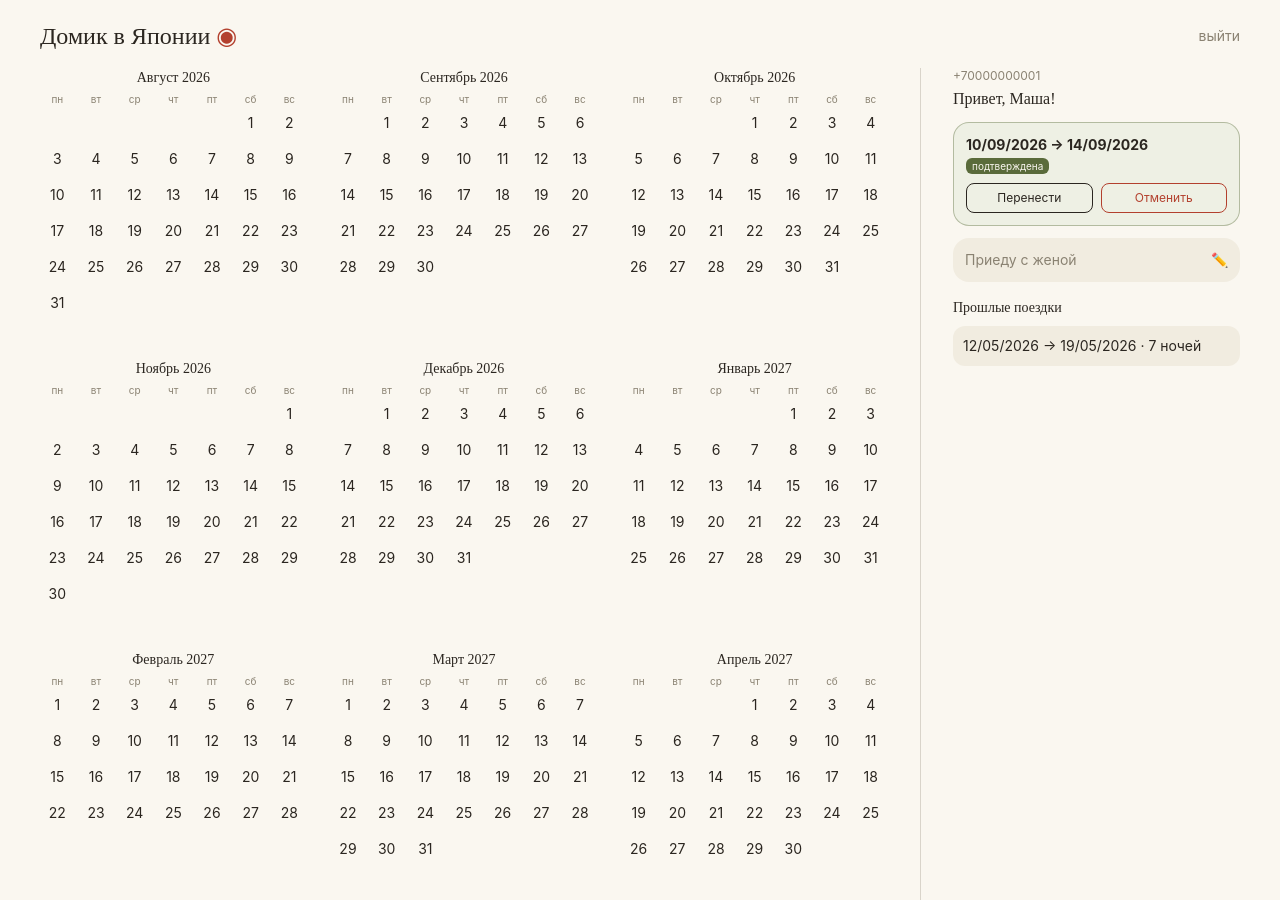
Test: карточка с комментарием, редактирование сохраняет
Expected: the text "Приеду с женой" is shown, top-left (965, 250), bottom-right (1077, 270)
Click the button named "изменить комментарий": (1220, 260) top-left (1211, 250), bottom-right (1228, 270)
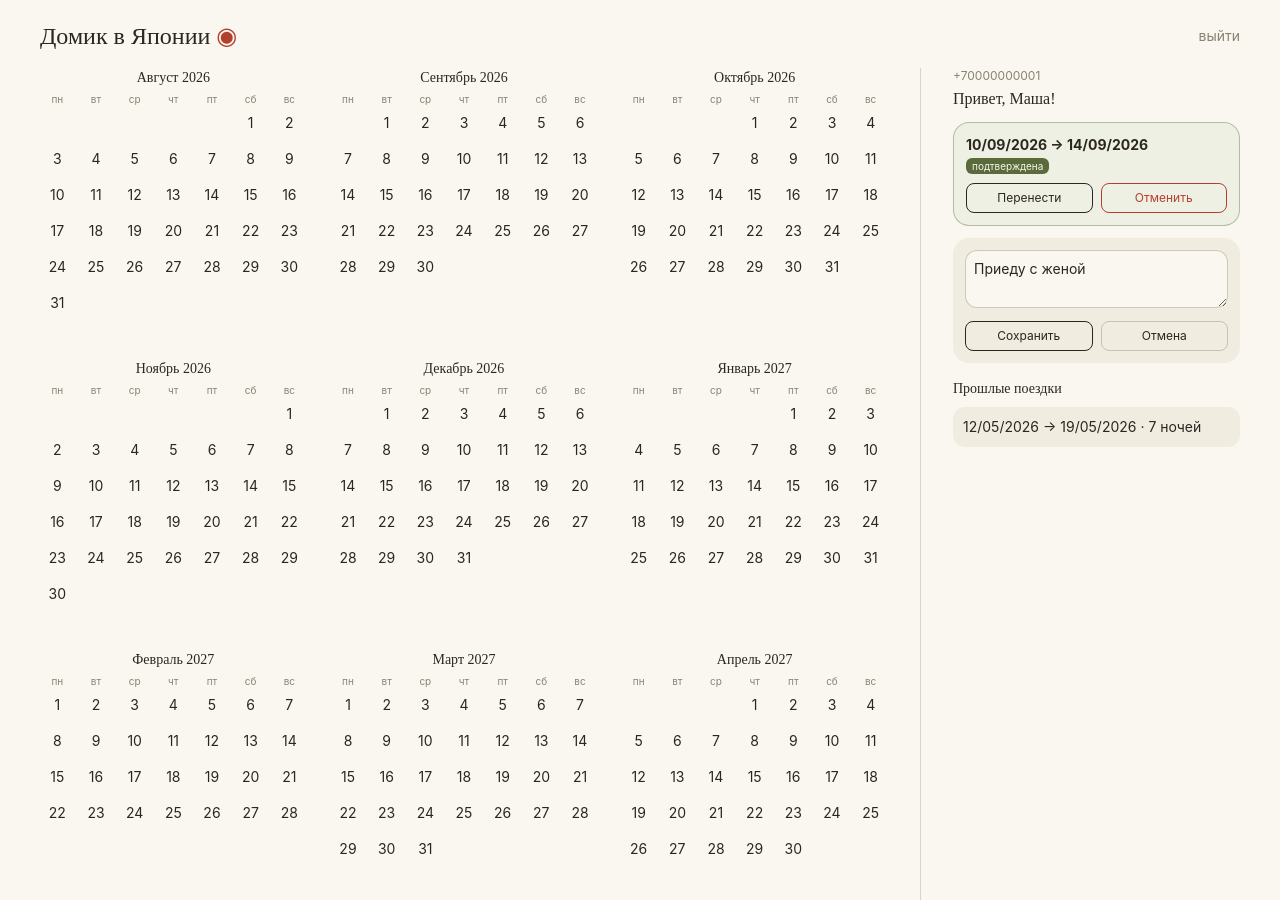
Replace the text in the text box named "комментарий" with "Буду один": (1096, 279) top-left (965, 250), bottom-right (1228, 308)
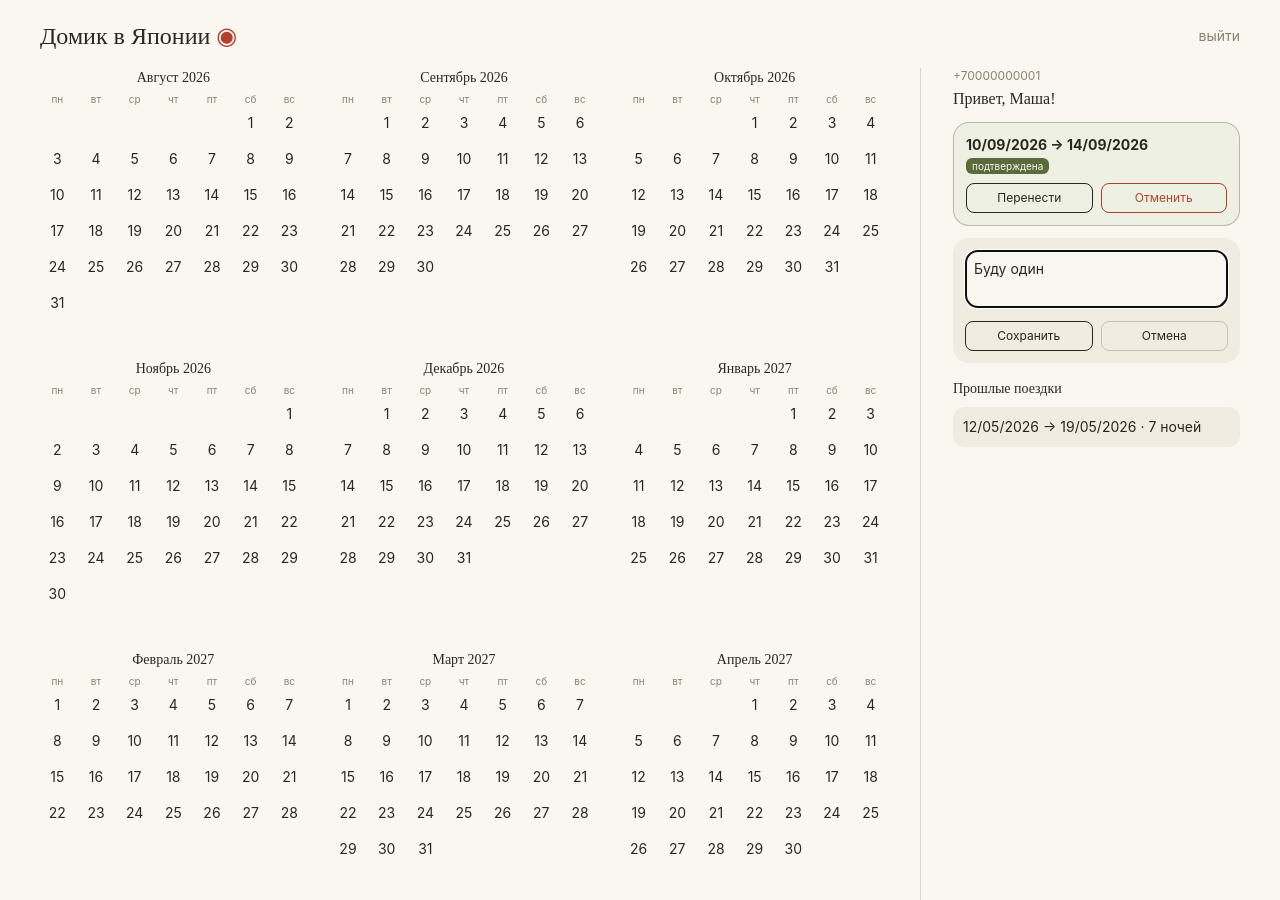
Click the button "Сохранить": (1029, 336) top-left (965, 321), bottom-right (1092, 351)
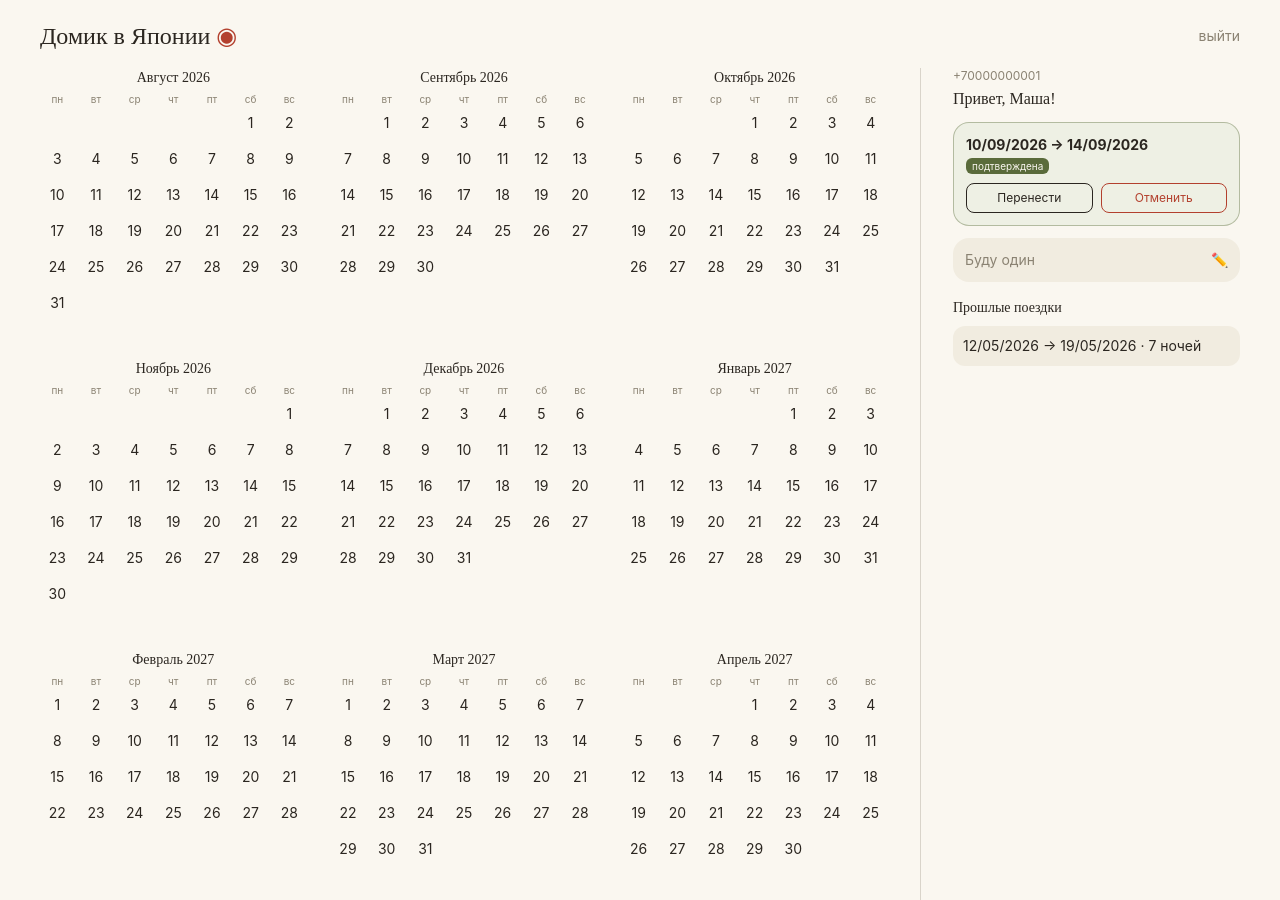
Now the text "Буду один" is shown, box top-left (965, 250), bottom-right (1035, 270)
